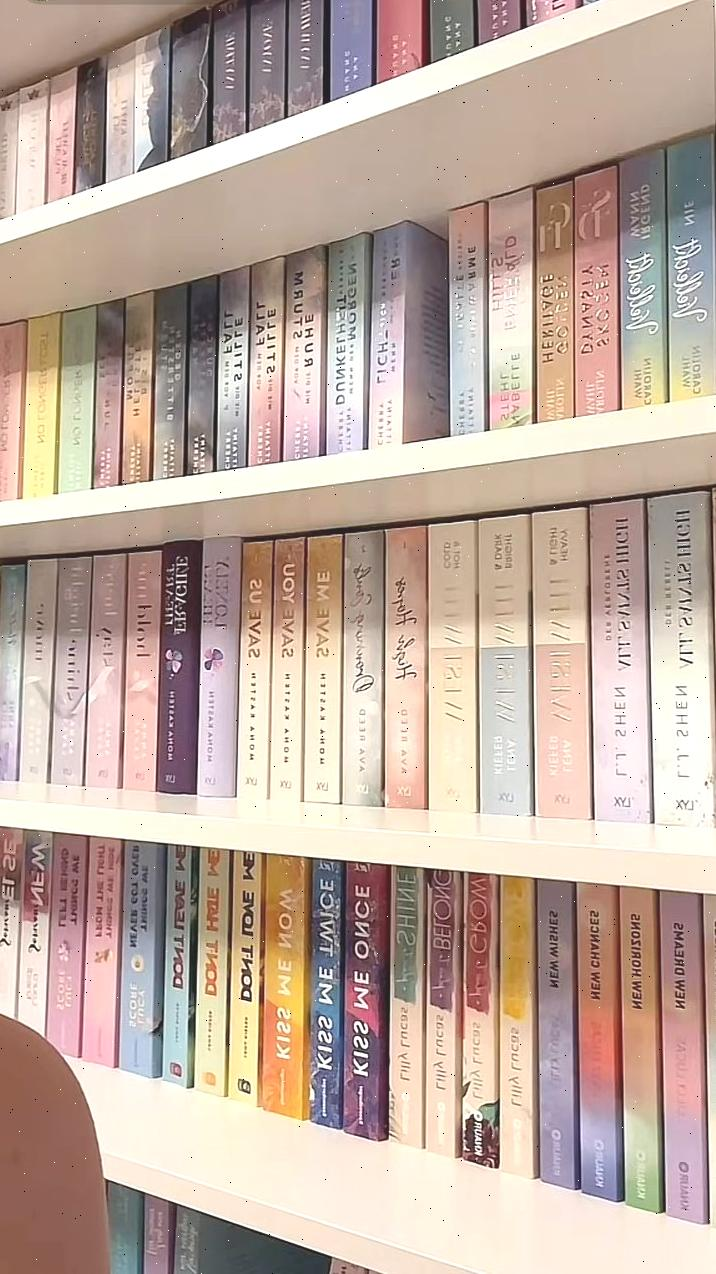book: (587, 498, 650, 823), (531, 503, 591, 818), (476, 510, 531, 814), (656, 890, 706, 1221), (426, 517, 477, 811), (618, 885, 664, 1206), (576, 884, 623, 1197), (535, 880, 579, 1192), (383, 525, 430, 809), (342, 863, 389, 1138), (260, 853, 308, 1113), (572, 163, 621, 414), (155, 544, 204, 794), (486, 186, 536, 429), (341, 530, 385, 805), (194, 539, 240, 799), (462, 870, 500, 1170), (533, 177, 577, 421), (498, 876, 534, 1174), (117, 841, 163, 1073), (303, 531, 342, 800), (44, 832, 91, 1055), (425, 867, 461, 1155), (80, 836, 125, 1062), (49, 557, 93, 786), (325, 233, 370, 456), (235, 541, 274, 797), (283, 244, 328, 461), (390, 867, 425, 1146), (121, 550, 161, 793), (85, 552, 126, 789), (446, 200, 487, 433), (20, 560, 61, 789), (269, 533, 304, 798), (194, 844, 230, 1095), (162, 842, 198, 1084), (247, 256, 285, 466), (57, 306, 98, 498), (16, 826, 53, 1036), (21, 311, 61, 500), (215, 267, 250, 474), (120, 289, 154, 486), (45, 66, 80, 205)
